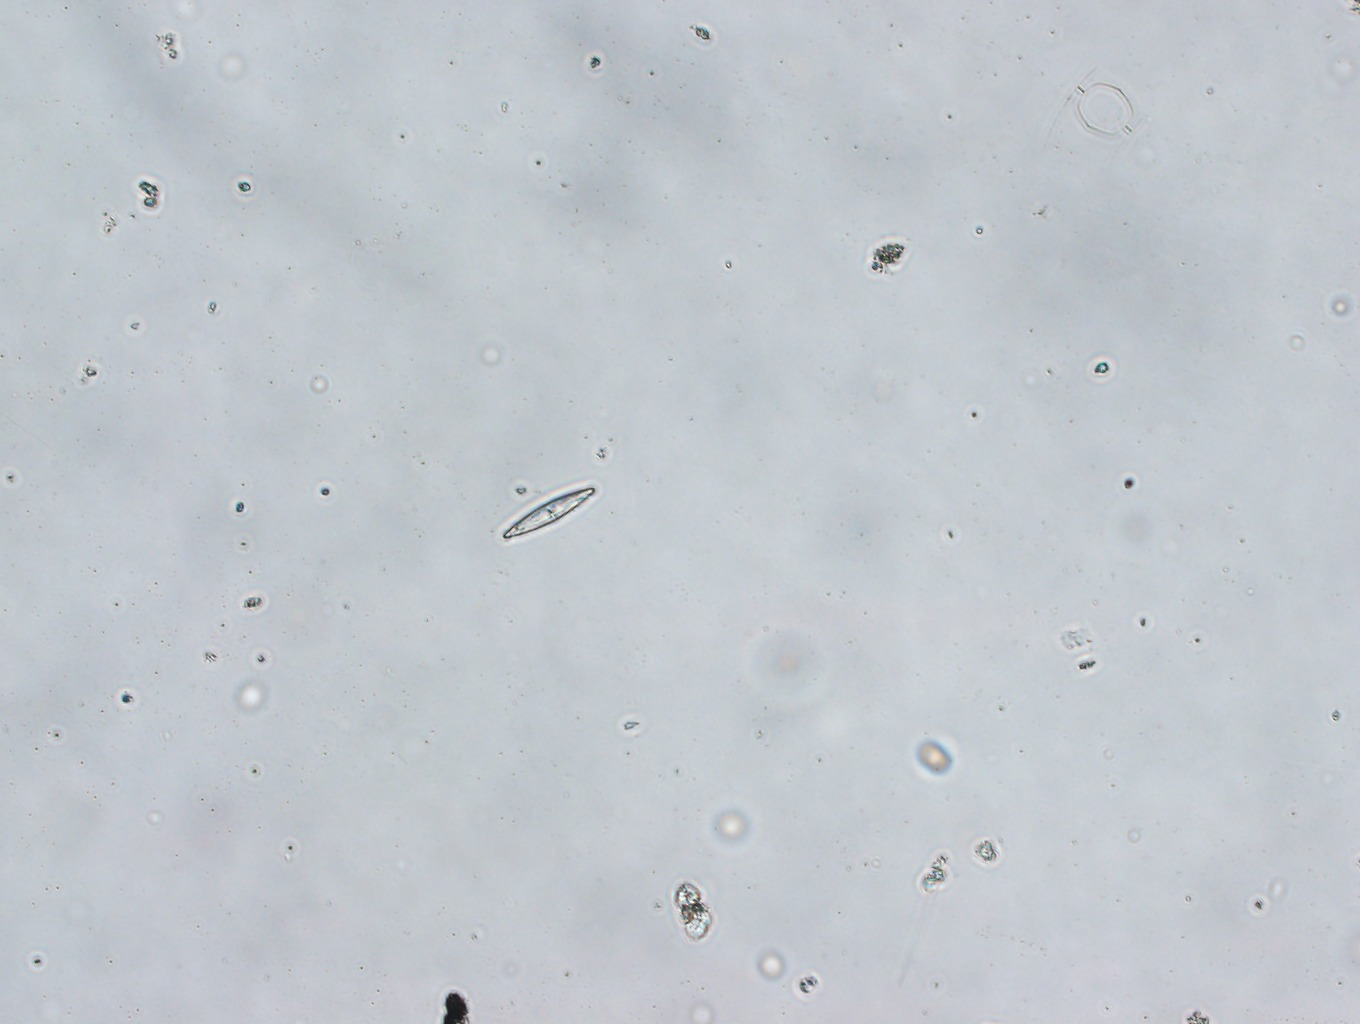navicula: (493, 475, 598, 541)
